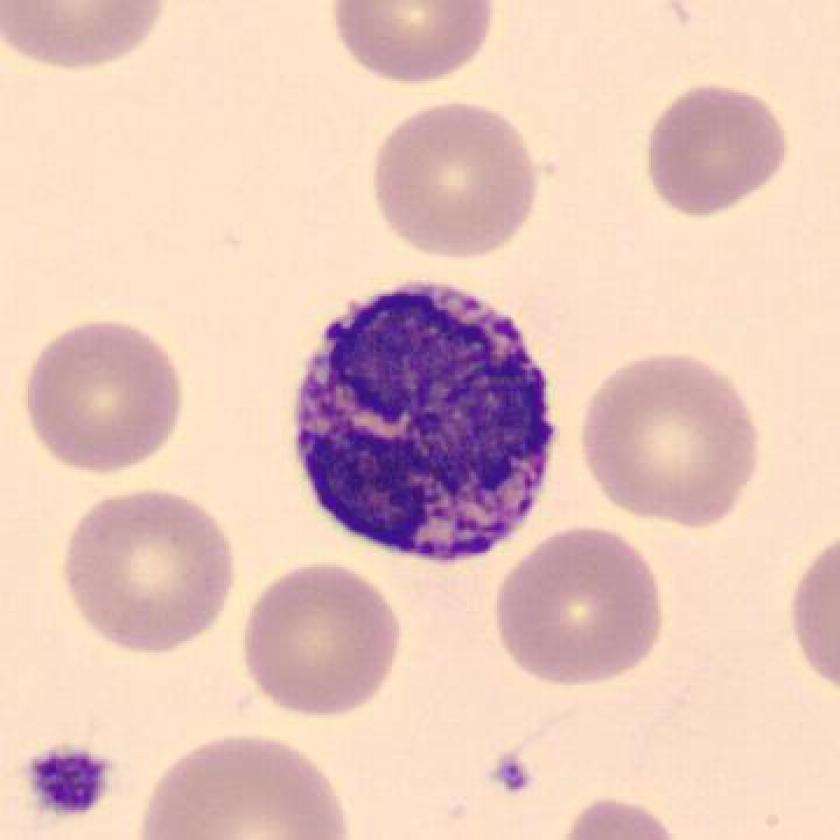basophil: (284, 270, 564, 573)
